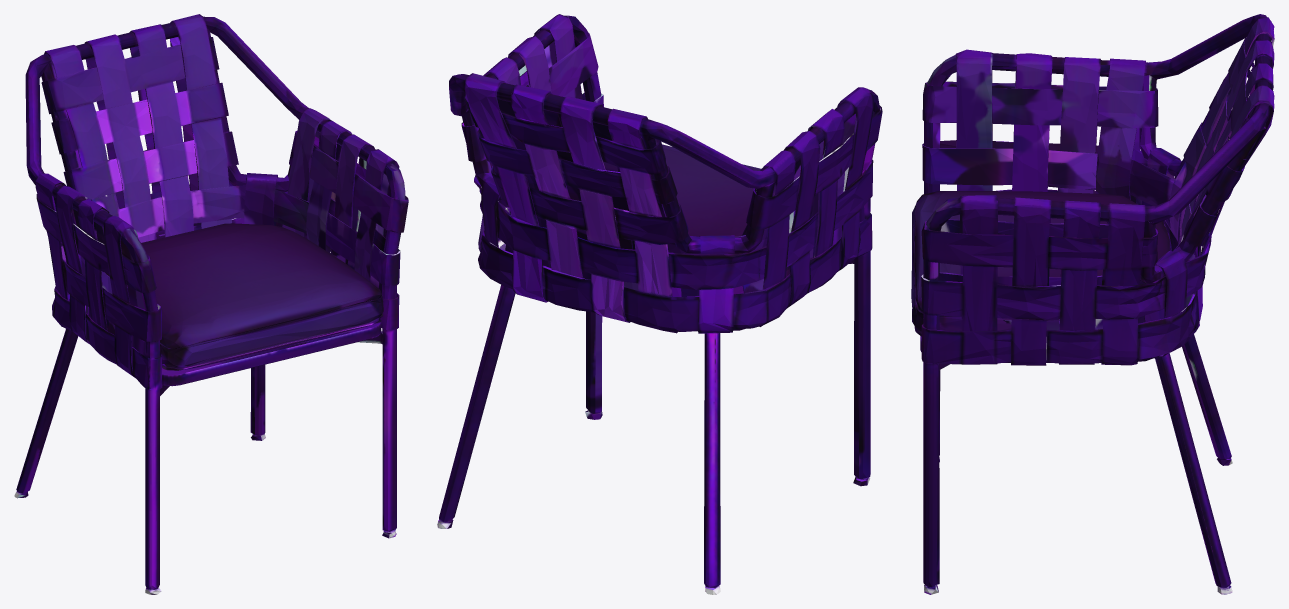
File: edited_mesh.glb
3 views of the same model, side by side, from view 1: azimuth 30°, elevation 25°; view 2: azimuth 150°, elevation 25°; view 3: azimuth 270°, elevation 25° (orthographic). The views are drawn at different scales.
Parts seen in each view (by area): view 1: solid_001_wire; view 2: solid_001_wire; view 3: solid_001_wire.
Part boxes in pixels (left/top/right/bottom): solid_001_wire: left=14, top=14, right=408, bottom=594; solid_001_wire: left=437, top=14, right=882, bottom=594; solid_001_wire: left=911, top=14, right=1274, bottom=594.
Size of the model in its own units: 1.04 by 1.48 by 1.04.
1 material, 1 textured.
